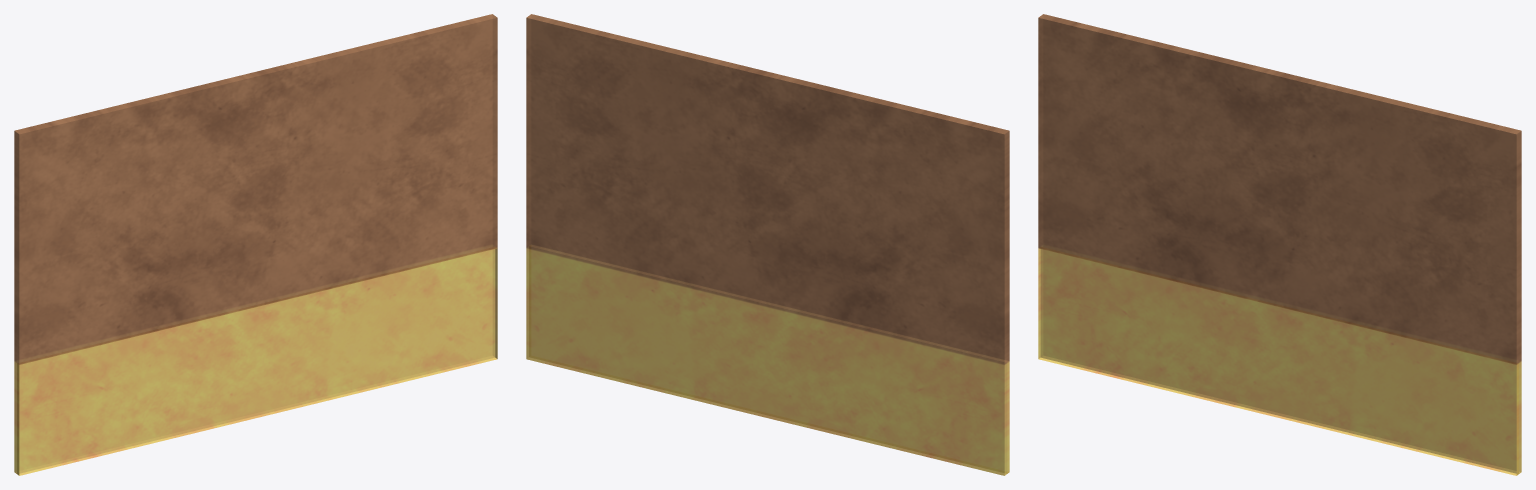
Rendered from mur2.fbx.
3 renders of one model, left to right at view 1: azimuth 30°, elevation 25°; view 2: azimuth 150°, elevation 25°; view 3: azimuth 330°, elevation 25°, orthographic.
Visible parts, largest first — view 1: Mur_coter; view 2: Mur_coter; view 3: Mur_coter.
Boxes of the visible parts, bbox=[...] form: Mur_coter: bbox=[14, 14, 497, 475]; Mur_coter: bbox=[526, 14, 1009, 475]; Mur_coter: bbox=[1038, 14, 1521, 475].
Bounding box in the file's own units: 412 × 282 × 7.62.
Materials: 1 (1 with a texture image).
